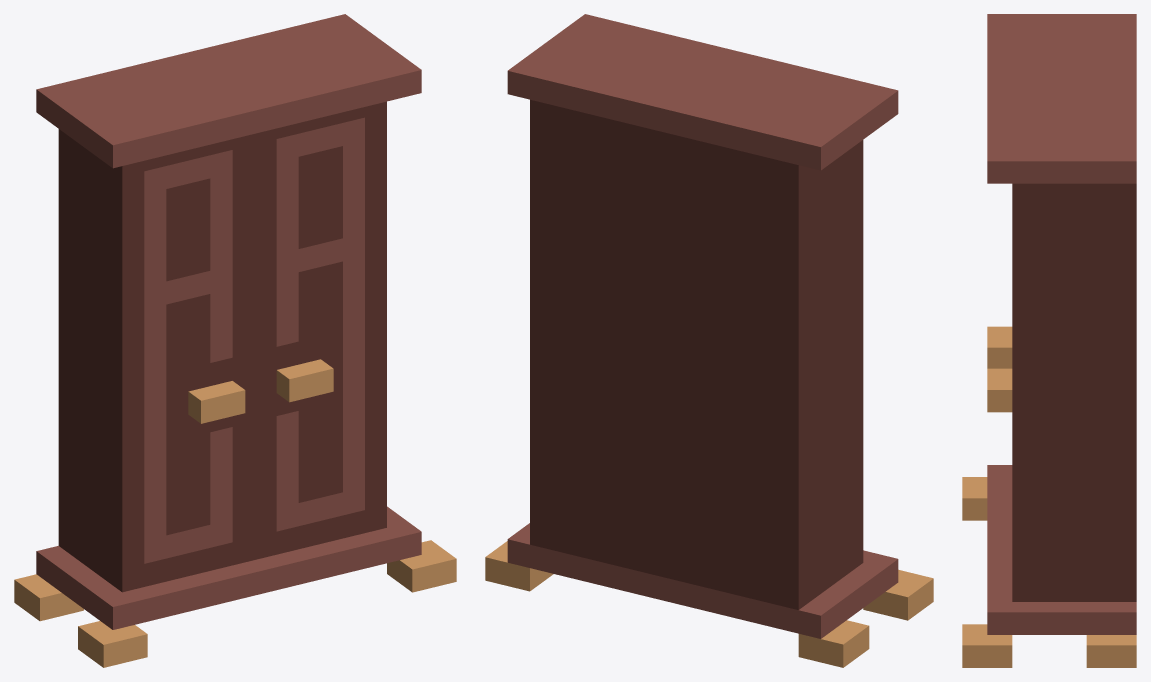
Rendered from CabinetBig.obj.
The picture shows the model from 3 angles, left to right: view 1: azimuth 30°, elevation 25°; view 2: azimuth 150°, elevation 25°; view 3: azimuth 270°, elevation 25°; orthographic projection. The views are drawn at different scales.
Bounding box in the file's own units: 16 × 22 × 7.
1 material, 1 textured.
